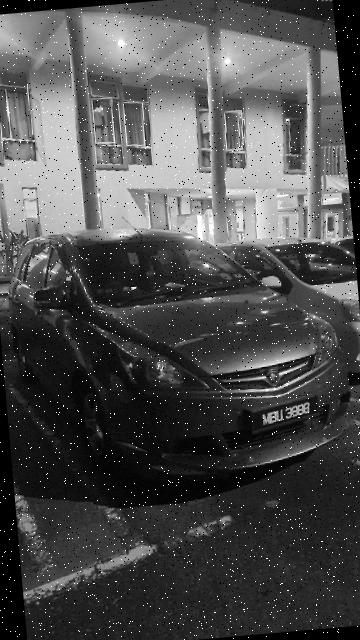License_Plate: (244, 393, 324, 430)
car: (7, 212, 360, 497)
